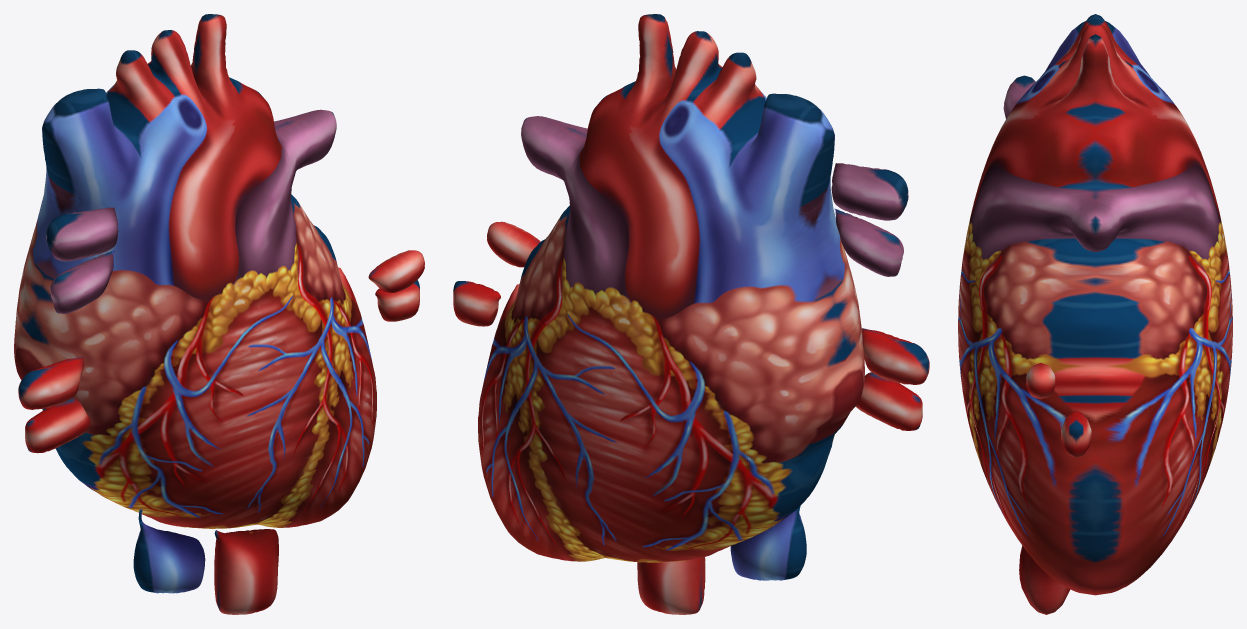
The model's file is heart.glb.
3 views of the same model, side by side, from view 1: azimuth 30°, elevation 25°; view 2: azimuth 150°, elevation 25°; view 3: azimuth 270°, elevation 25° (orthographic). The views are drawn at different scales.
Size of the model in its own units: 4.92 by 6.5 by 2.86.
Materials: 1 (1 with a texture image).
